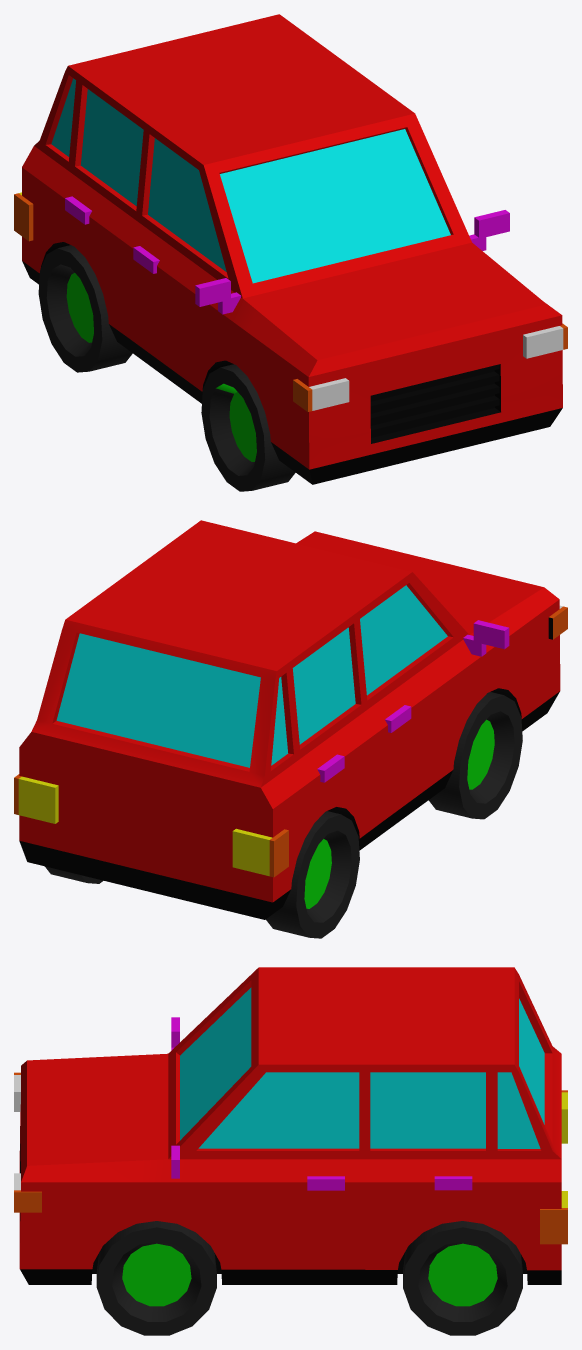
File: Car1.fbx
3 renders of one model, top to bottom at view 1: azimuth 30°, elevation 25°; view 2: azimuth 150°, elevation 25°; view 3: azimuth 270°, elevation 25°, orthographic. The views are drawn at different scales.
Visible parts, largest first — view 1: Car1; view 2: Car1; view 3: Car1.
Part boxes in pixels (left/top/right/bottom): Car1: left=14, top=14, right=567, bottom=491; Car1: left=14, top=520, right=567, bottom=938; Car1: left=14, top=967, right=567, bottom=1335.
Bounding box in the file's own units: 223 × 190 × 366.
